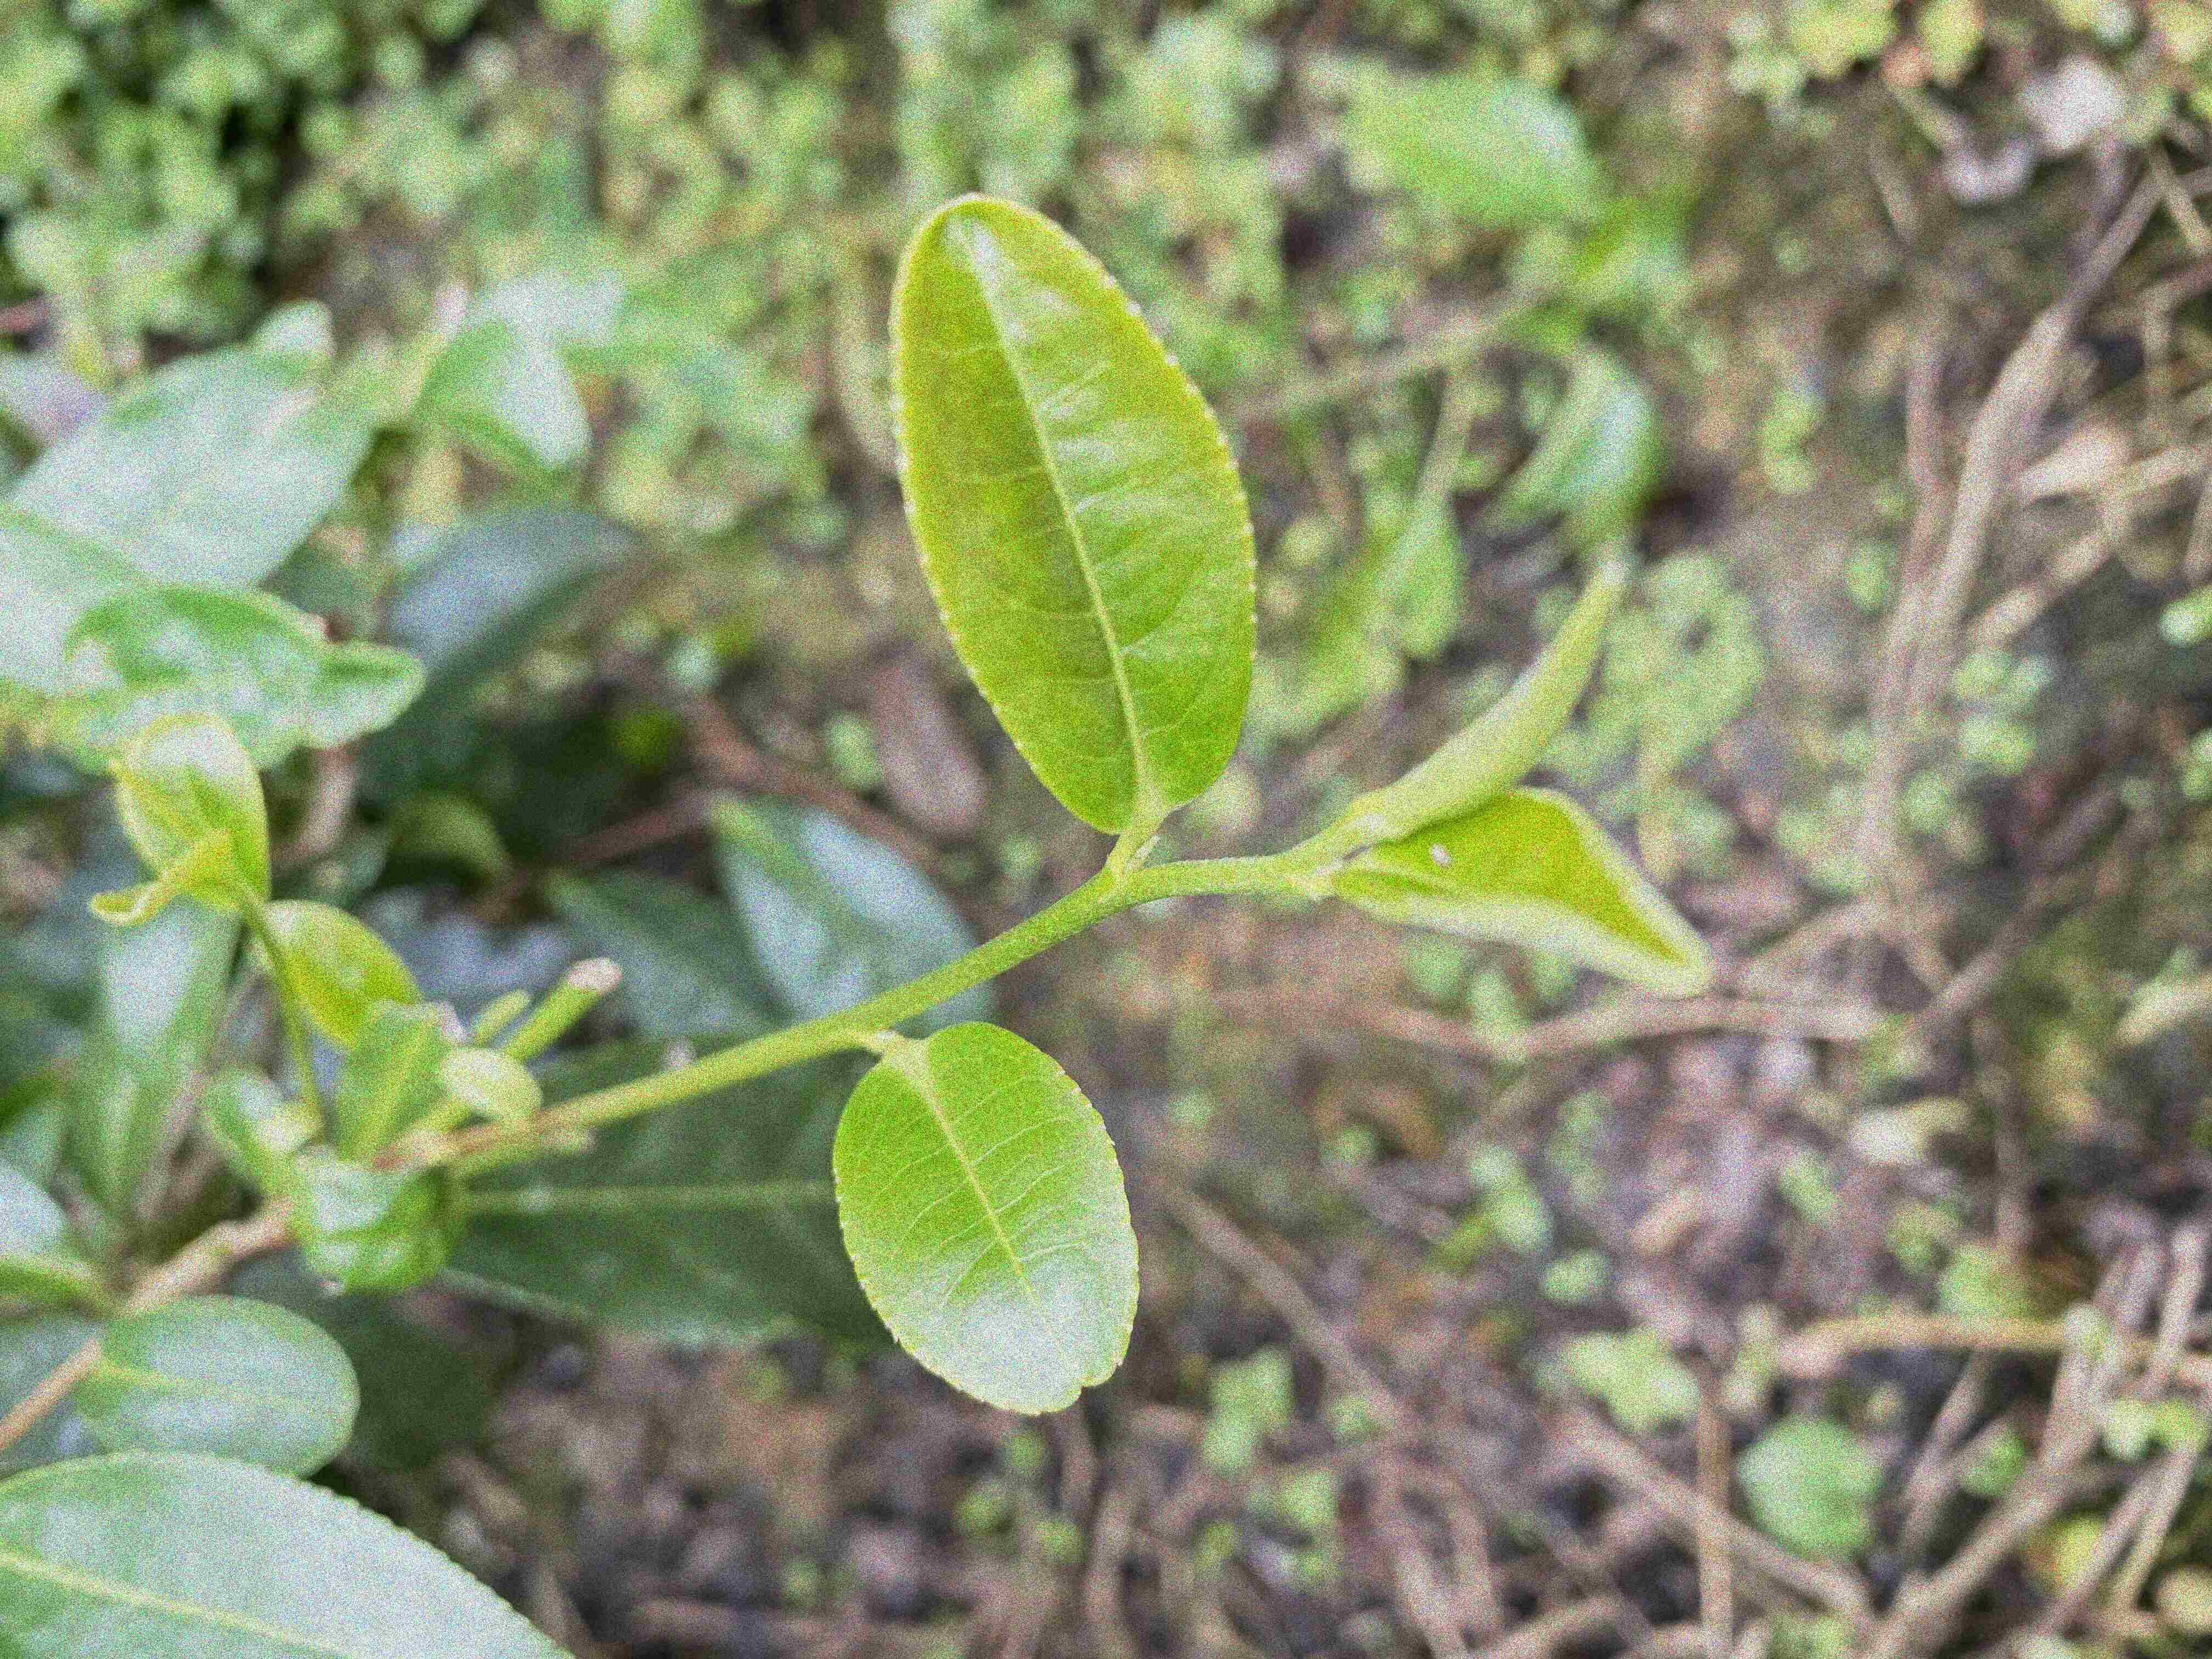healthy: (883, 190, 1261, 836), (826, 1012, 1143, 1419)
tanju_low: (1331, 786, 1710, 999)
